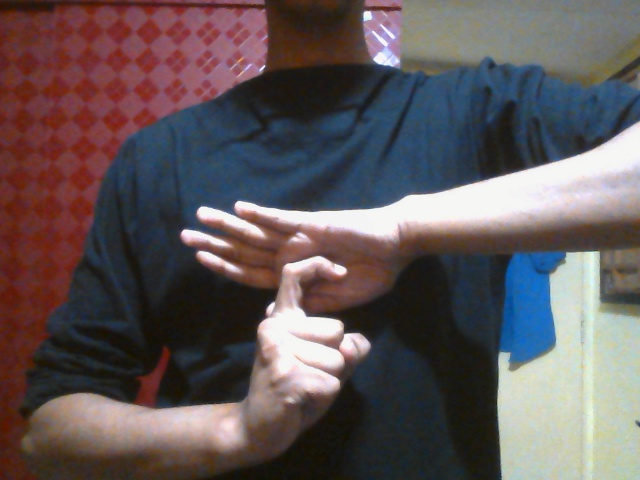R: (178, 197, 406, 460)
